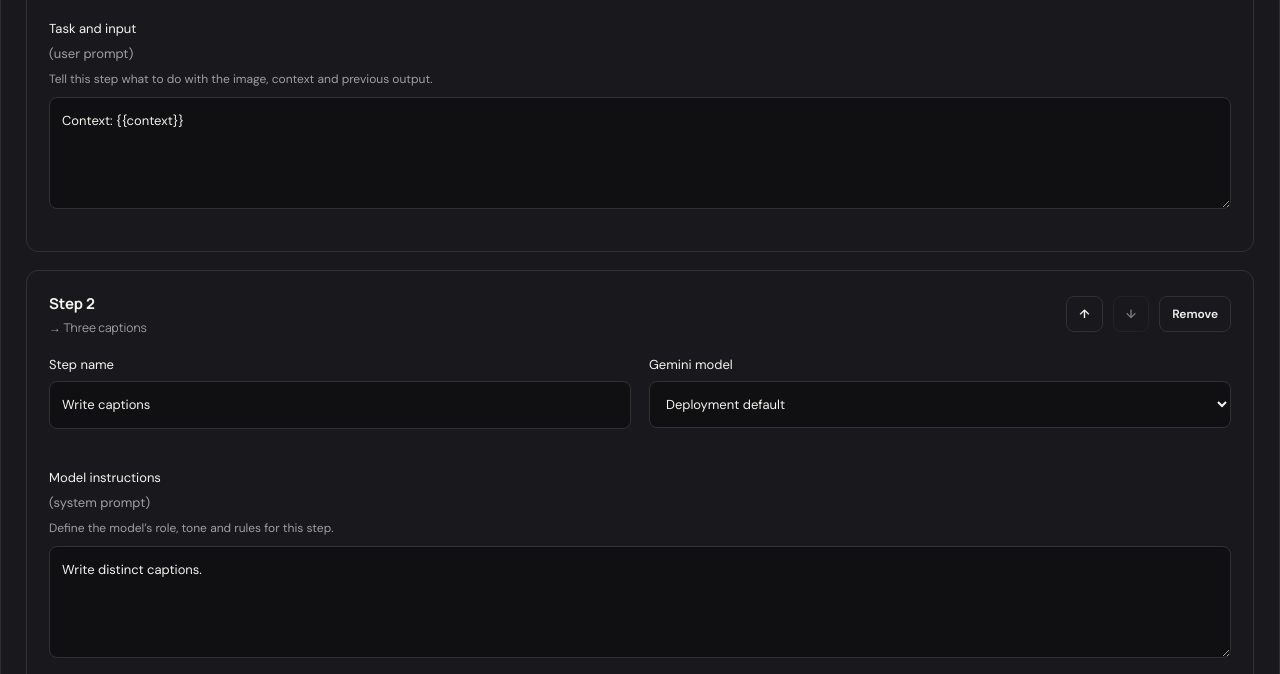
reorders steps and requires a new save and test
(page scrolled)
What coordinates should you click on to do the following:
click the button named "Move step 2 up"
I would click on:
 (1084, 314)
Its box is x1=1066 y1=296 x2=1103 y2=332.
(page scrolled)
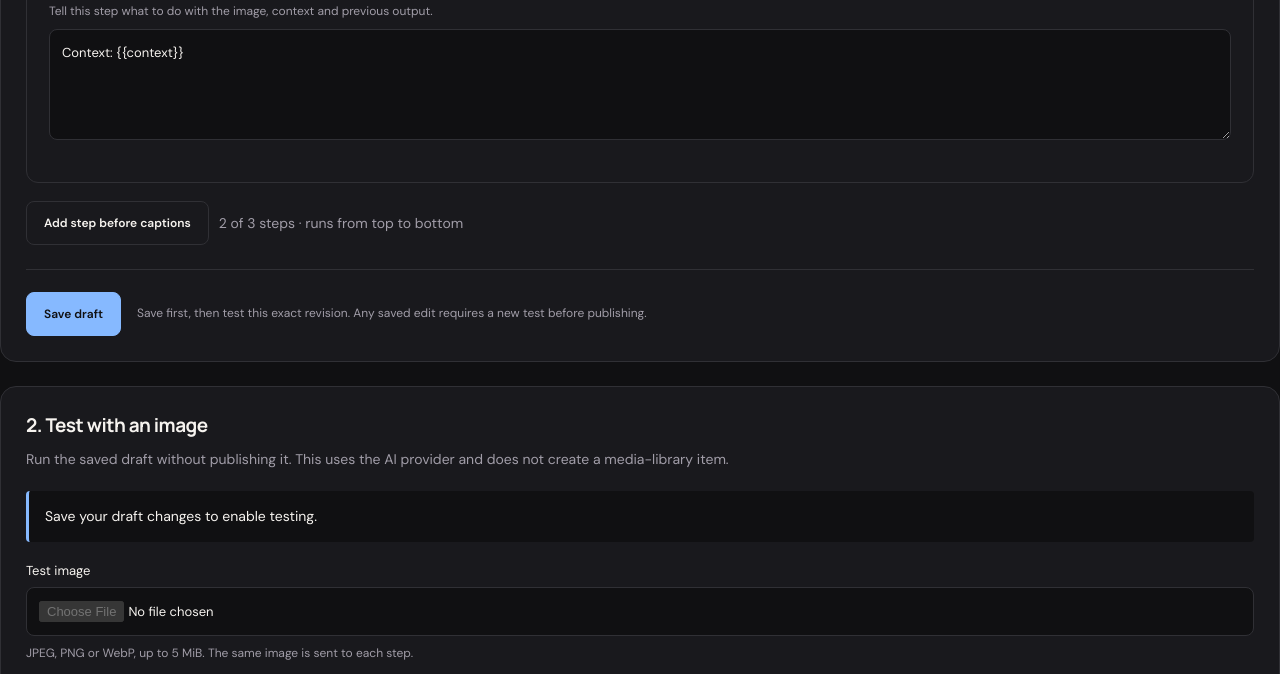
Now the button "Save draft" is enabled, box x1=26 y1=292 x2=121 y2=336
